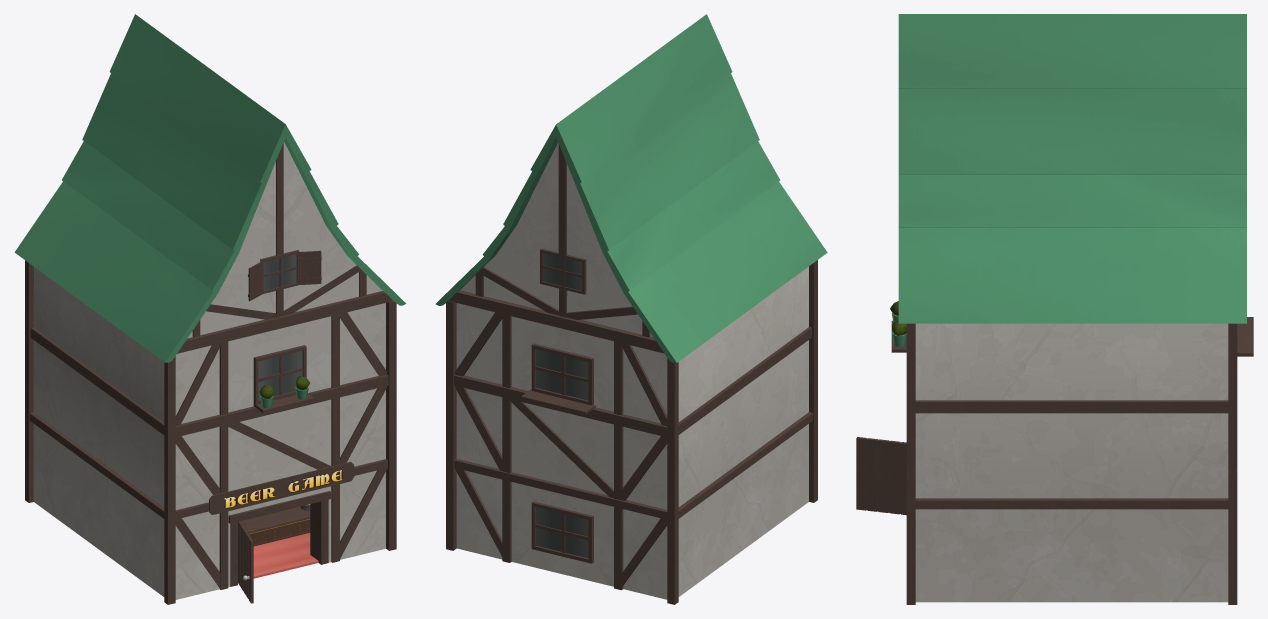
File: Tabern.glb
The picture shows the model from 3 angles, left to right: view 1: azimuth 30°, elevation 25°; view 2: azimuth 150°, elevation 25°; view 3: azimuth 270°, elevation 25°; orthographic projection. The views are drawn at different scales.
Parts seen in each view (by area): view 1: Tabern; view 2: Tabern; view 3: Tabern.
Part boxes in pixels (x1=…): Tabern: x1=14, y1=14, x2=406, y2=604; Tabern: x1=435, y1=14, x2=827, y2=604; Tabern: x1=856, y1=14, x2=1253, y2=604.
Size of what is drawn, in the model's own units: 10.19 by 18.37 by 12.56.
Materials: 10 (10 with a texture image).
